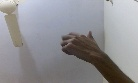hand: (60, 28, 105, 68)
